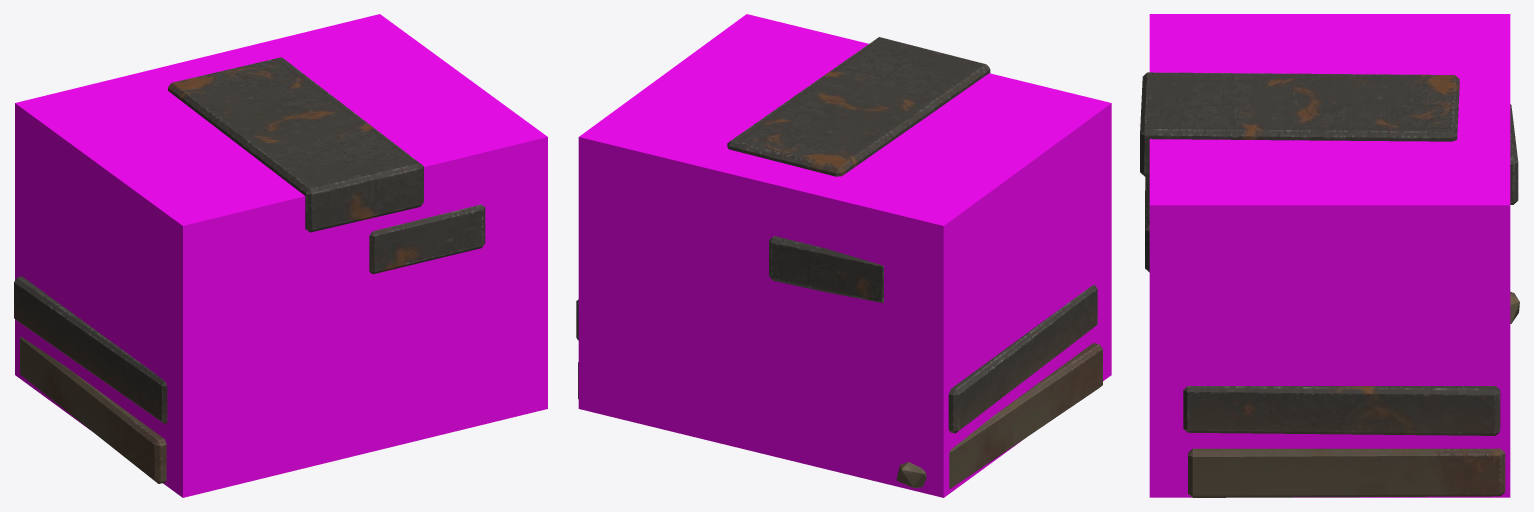
Rendered from prop_ingot_stack.glb.
3 views of the same model, side by side, from view 1: azimuth 30°, elevation 25°; view 2: azimuth 150°, elevation 25°; view 3: azimuth 270°, elevation 25° (orthographic). The views are drawn at different scales.
Parts seen in each view (by area): view 1: prop_ingot_stack-col, Ingots; view 2: prop_ingot_stack-col, Ingots; view 3: prop_ingot_stack-col, Ingots.
Boxes of the visible parts, box(x1,y1,x2,y2) form: prop_ingot_stack-col: box(15, 14, 547, 497); Ingots: box(14, 57, 485, 483); prop_ingot_stack-col: box(578, 14, 1111, 497); Ingots: box(576, 37, 1102, 488); prop_ingot_stack-col: box(1149, 14, 1510, 497); Ingots: box(1140, 72, 1519, 497).
Size of the model in its own units: 0.8266 by 0.5884 by 0.6589.
Materials: 2 (1 with a texture image).
